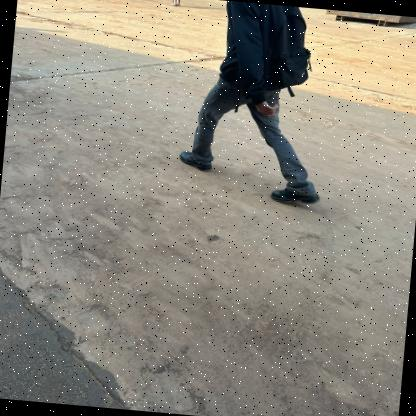bota: (263, 172, 318, 211), (178, 146, 214, 174)
